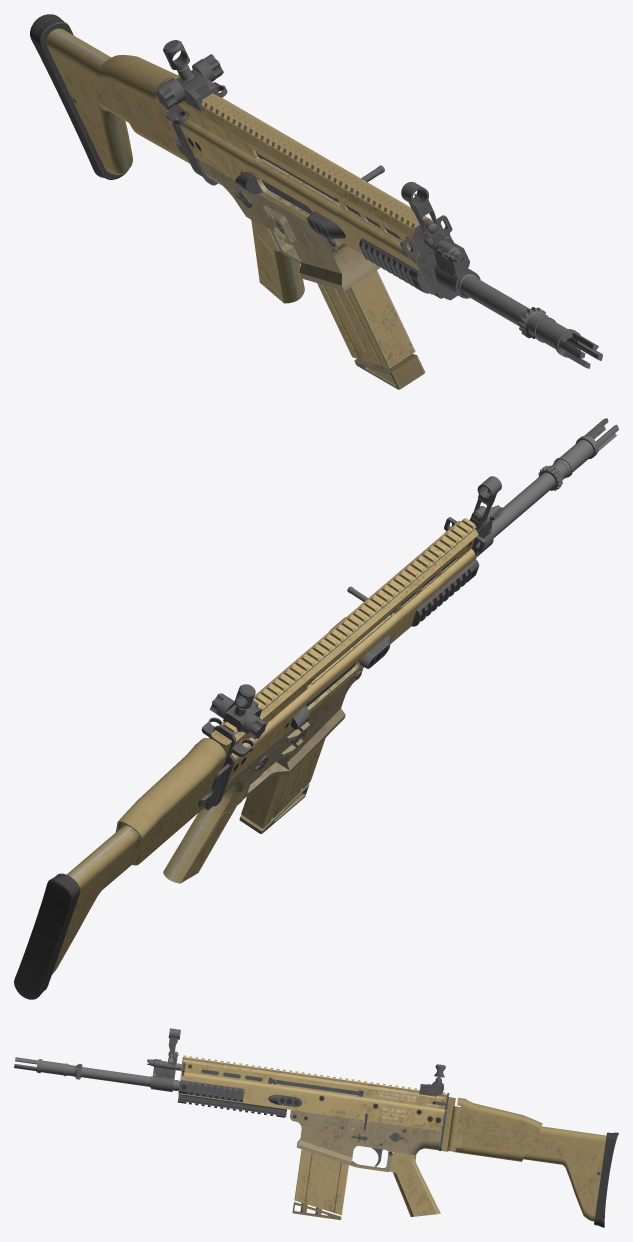
The model's file is weapon-rampart.glb.
3 renders of one model, top to bottom at view 1: azimuth 30°, elevation 25°; view 2: azimuth 150°, elevation 25°; view 3: azimuth 270°, elevation 25°, orthographic. The views are drawn at different scales.
Visible parts, largest first — view 1: part1, part0; view 2: part1, part0; view 3: part1, part0.
Boxes of the visible parts, left/top/right/bottom form: part1: left=154, top=40, right=469, bottom=389; part0: left=30, top=14, right=602, bottom=368; part1: left=163, top=517, right=485, bottom=883; part0: left=14, top=418, right=618, bottom=999; part1: left=177, top=1055, right=449, bottom=1220; part0: left=14, top=1028, right=618, bottom=1227.
Size of the model in its own units: 0.2846 by 0.6178 by 2.01.
Materials: 2 (2 with a texture image).
